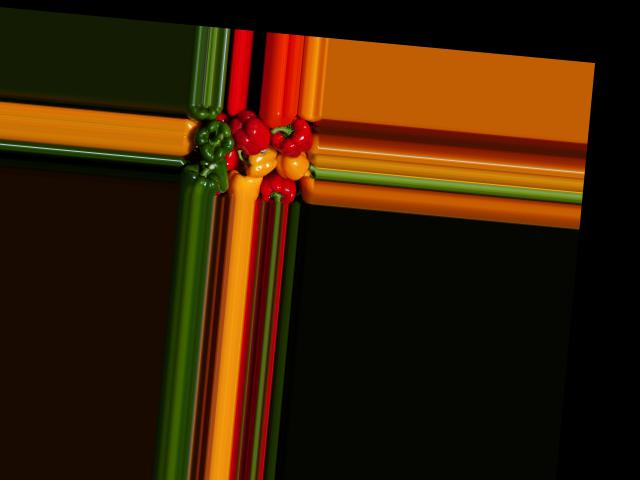bell_pepper: (184, 102, 223, 127)
